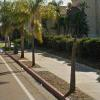Palm tree: (14, 3, 45, 64)
